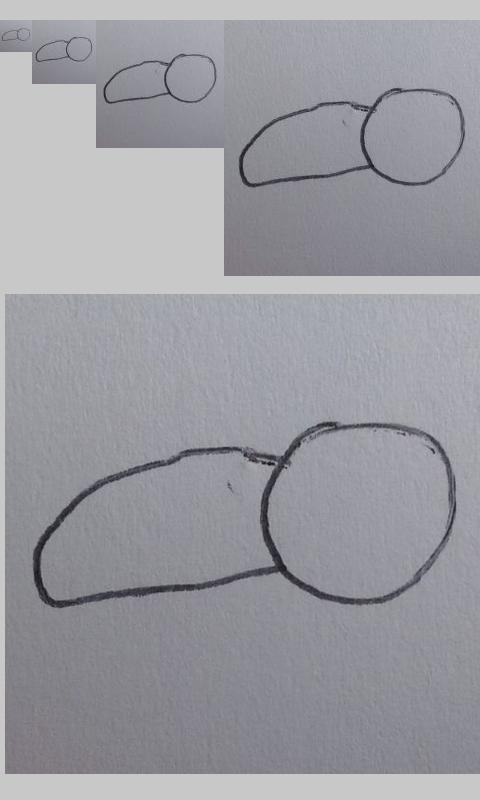switch: (32, 418, 458, 608), (237, 87, 466, 186), (103, 53, 217, 104), (35, 36, 93, 63), (1, 27, 31, 42)
